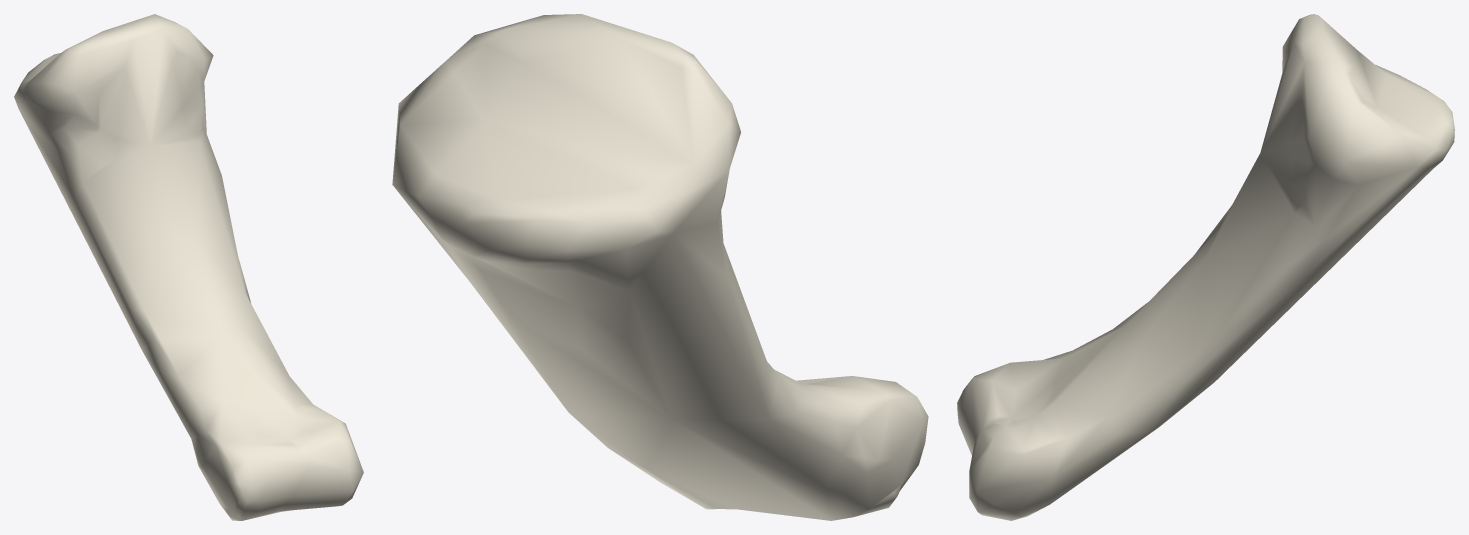
The picture shows the model from 3 angles, left to right: view 1: azimuth 30°, elevation 25°; view 2: azimuth 150°, elevation 25°; view 3: azimuth 270°, elevation 25°; orthographic projection. The views are drawn at different scales.
Visible parts, largest first — view 1: ZA_5955d7f9c310670c; view 2: ZA_5955d7f9c310670c; view 3: ZA_5955d7f9c310670c.
Part boxes in pixels (<box>): ZA_5955d7f9c310670c: <box>14,14,363,520</box>; ZA_5955d7f9c310670c: <box>392,14,928,520</box>; ZA_5955d7f9c310670c: <box>957,14,1454,520</box>.
Size of the model in its own units: 0.0126 by 0.0248 by 0.0251.
